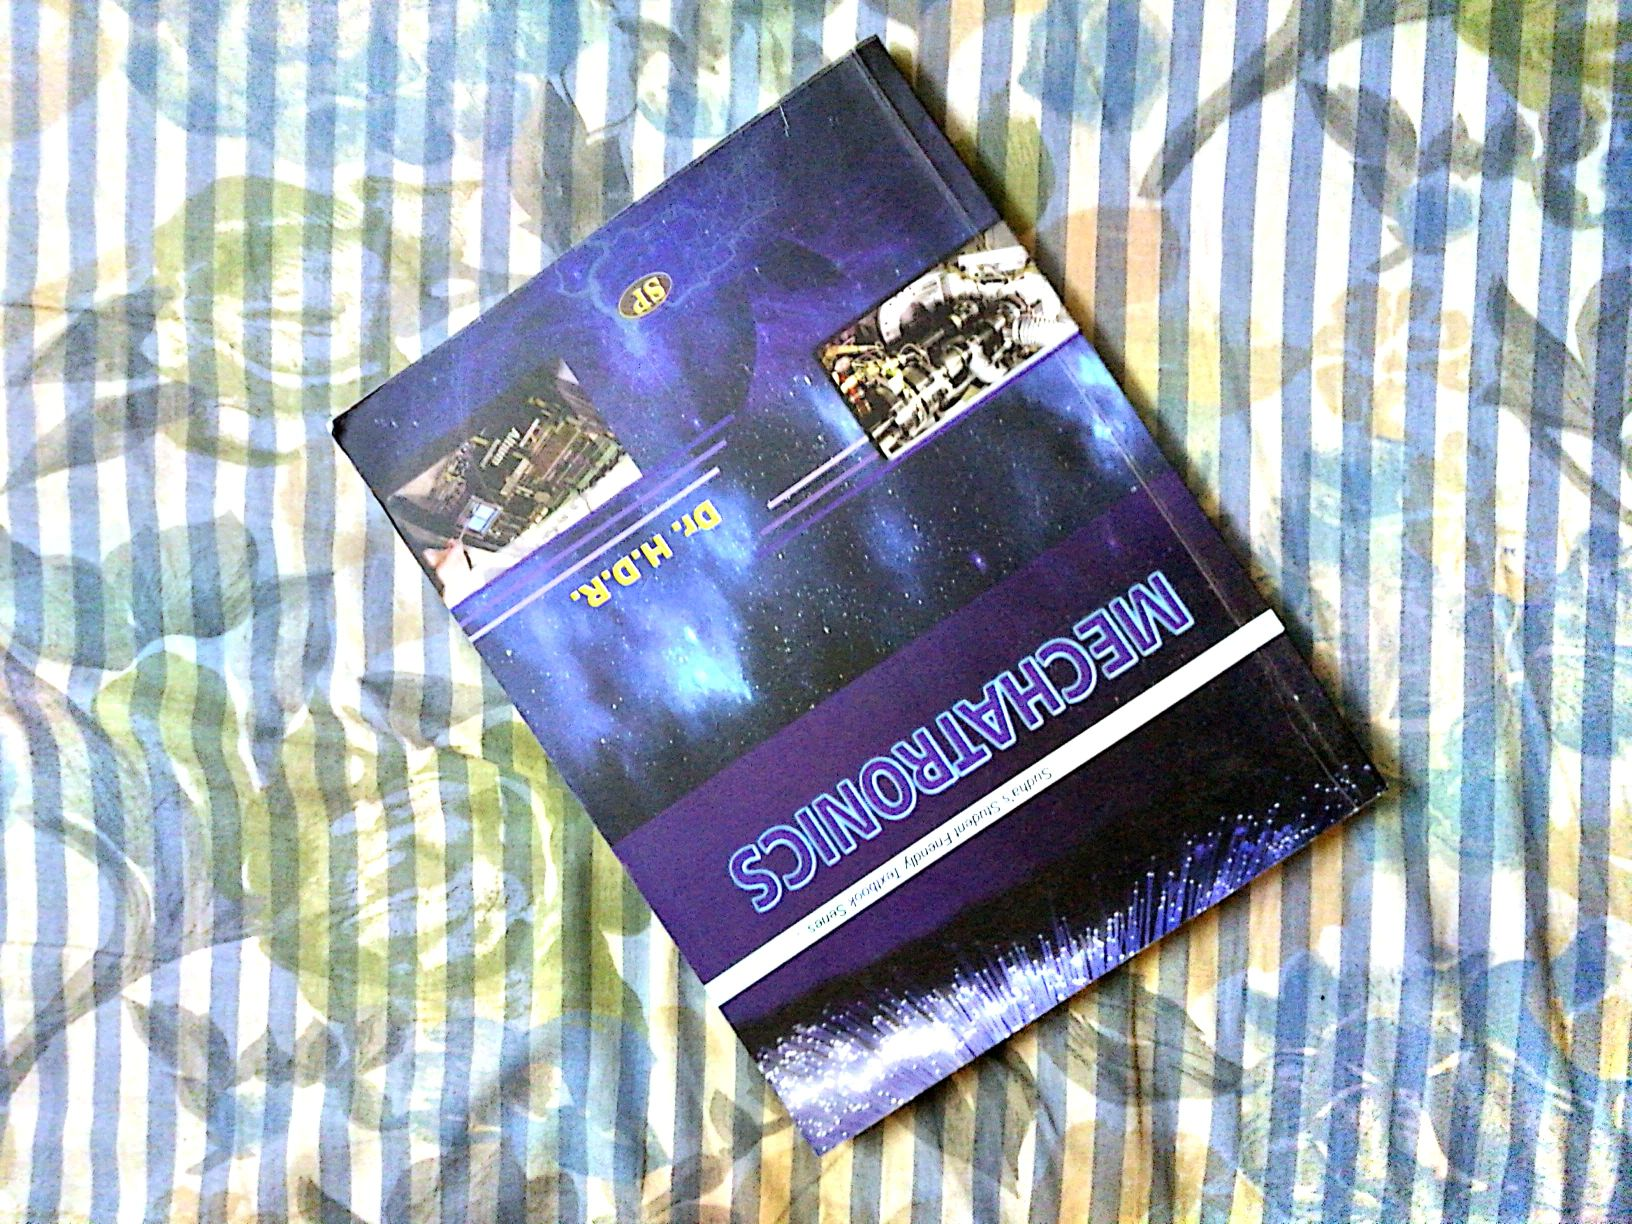mechatronics: (380, 60, 1416, 1095)
